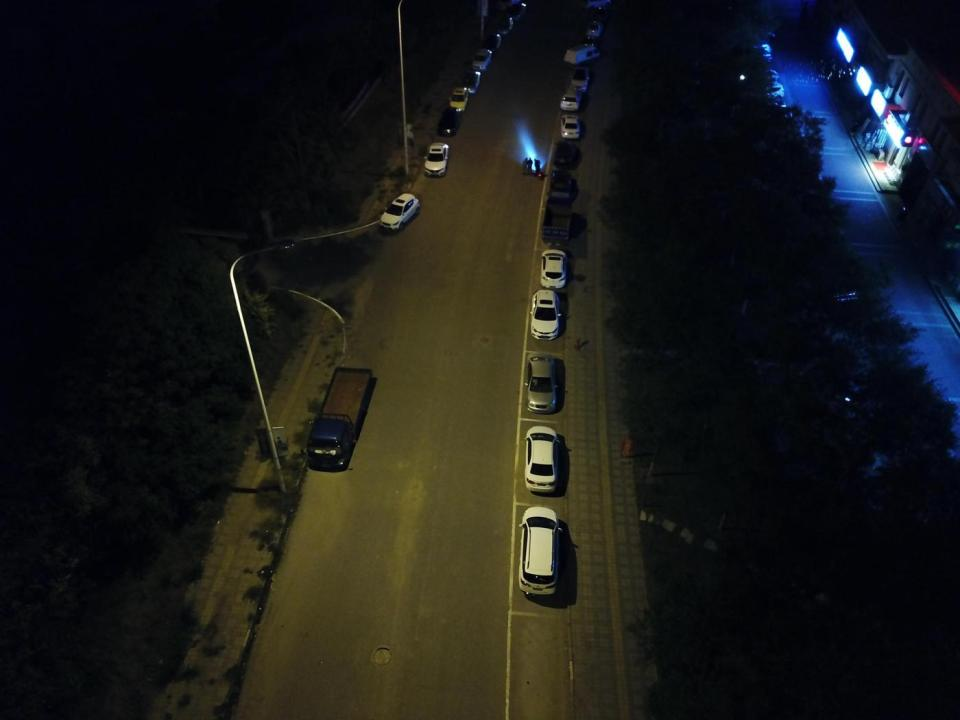car: (520, 504, 564, 599), (515, 419, 561, 493), (522, 348, 558, 412), (378, 194, 419, 234), (529, 289, 561, 340), (534, 248, 568, 289), (422, 139, 448, 176), (549, 165, 577, 193), (438, 105, 464, 134), (555, 113, 583, 139), (551, 140, 580, 164), (569, 64, 593, 92), (744, 81, 785, 97), (740, 66, 781, 81), (446, 84, 468, 111), (470, 49, 494, 73), (560, 85, 582, 111), (461, 66, 481, 94), (742, 49, 774, 64), (504, 2, 528, 20), (483, 30, 504, 50), (493, 14, 514, 34), (743, 28, 777, 40), (744, 40, 775, 52), (583, 20, 603, 38), (744, 32, 770, 43), (592, 6, 612, 18)
truck: (302, 366, 378, 468), (540, 182, 578, 245)
van: (563, 42, 603, 68)
